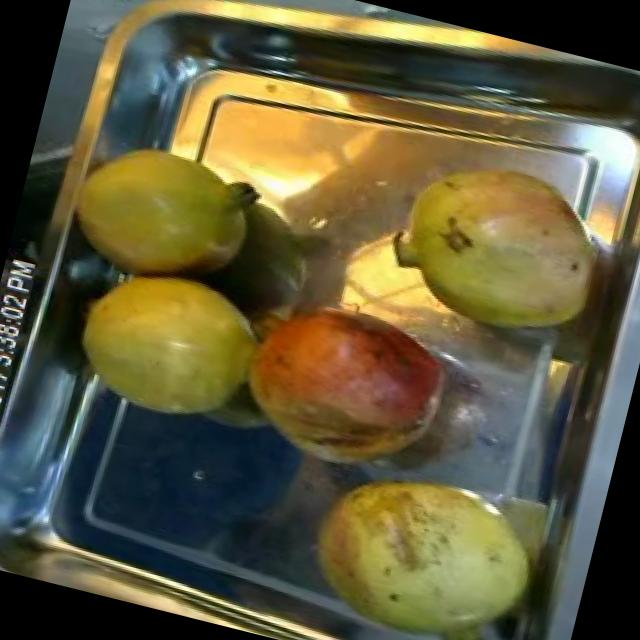fruit: (364, 130, 637, 363), (213, 269, 473, 494), (277, 435, 562, 640), (52, 119, 282, 314), (56, 247, 283, 444)
